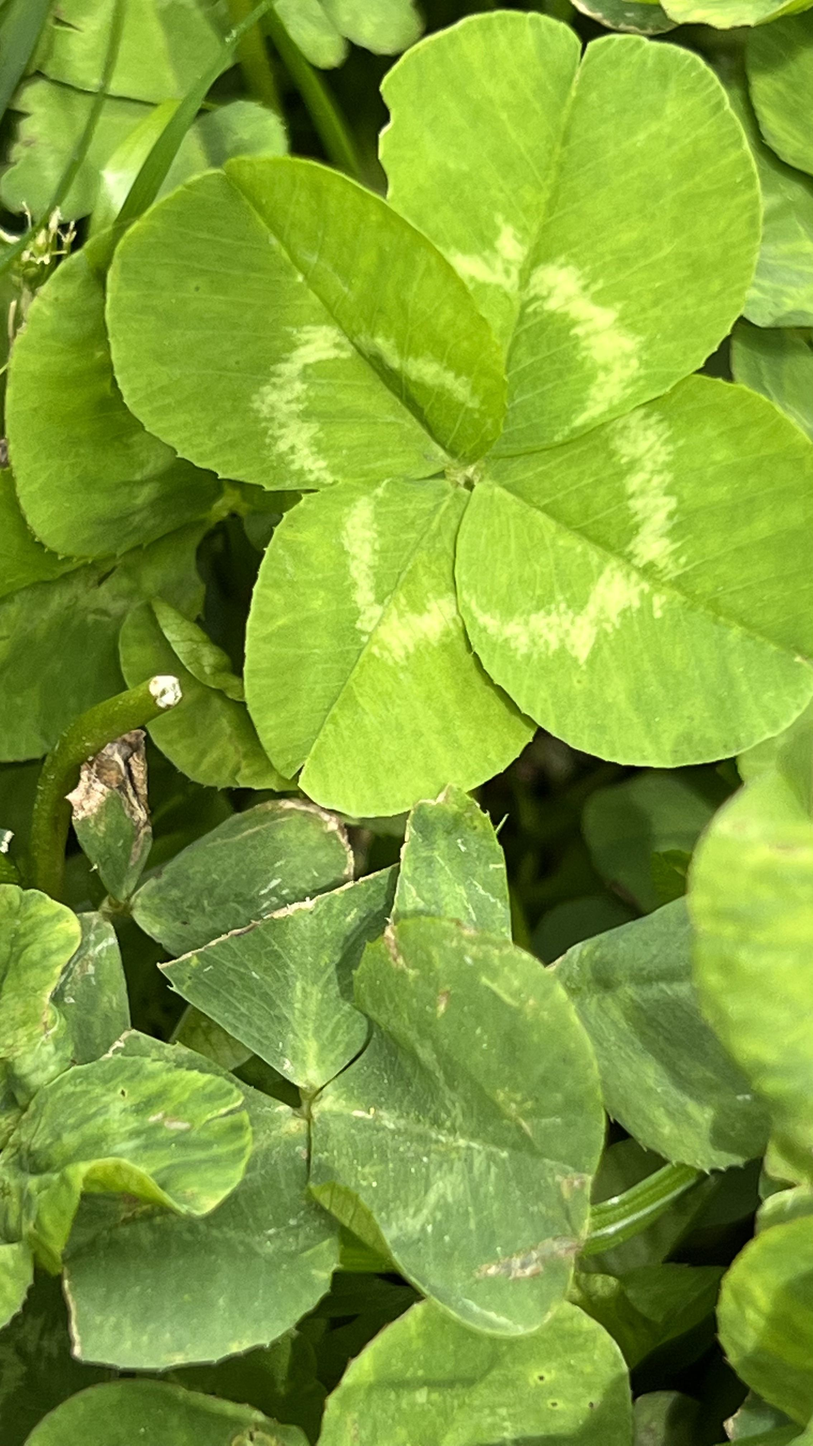4-Leaf-Clovers: (12, 0, 462, 1242)
